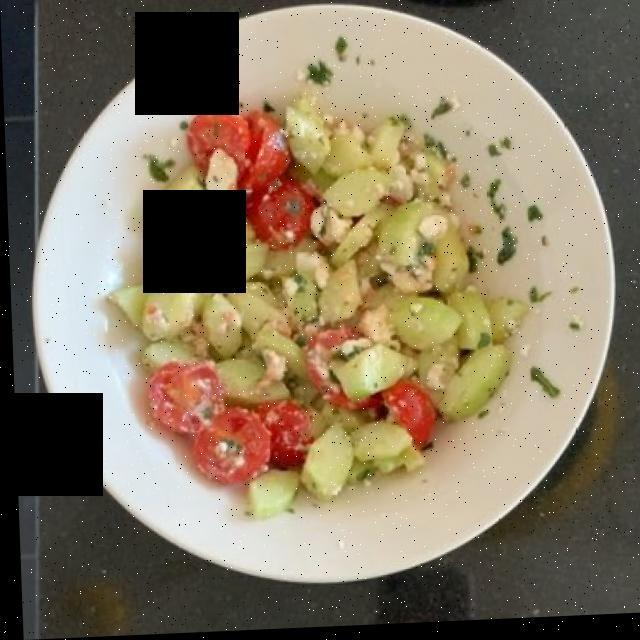salad: (119, 91, 514, 506)
